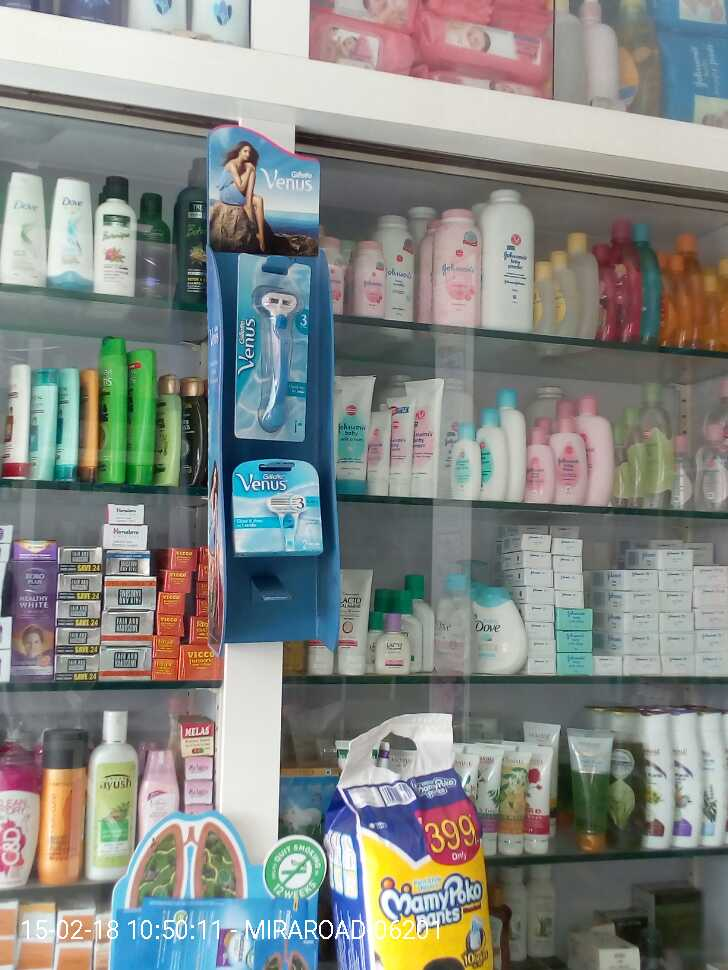venus: (235, 253, 311, 443), (233, 450, 324, 563)
